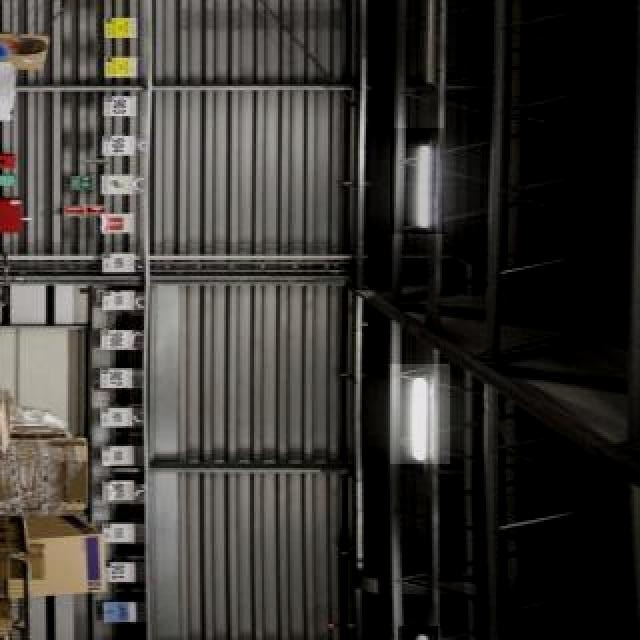fluorescent tube: (406, 115, 446, 237), (398, 364, 444, 469)
